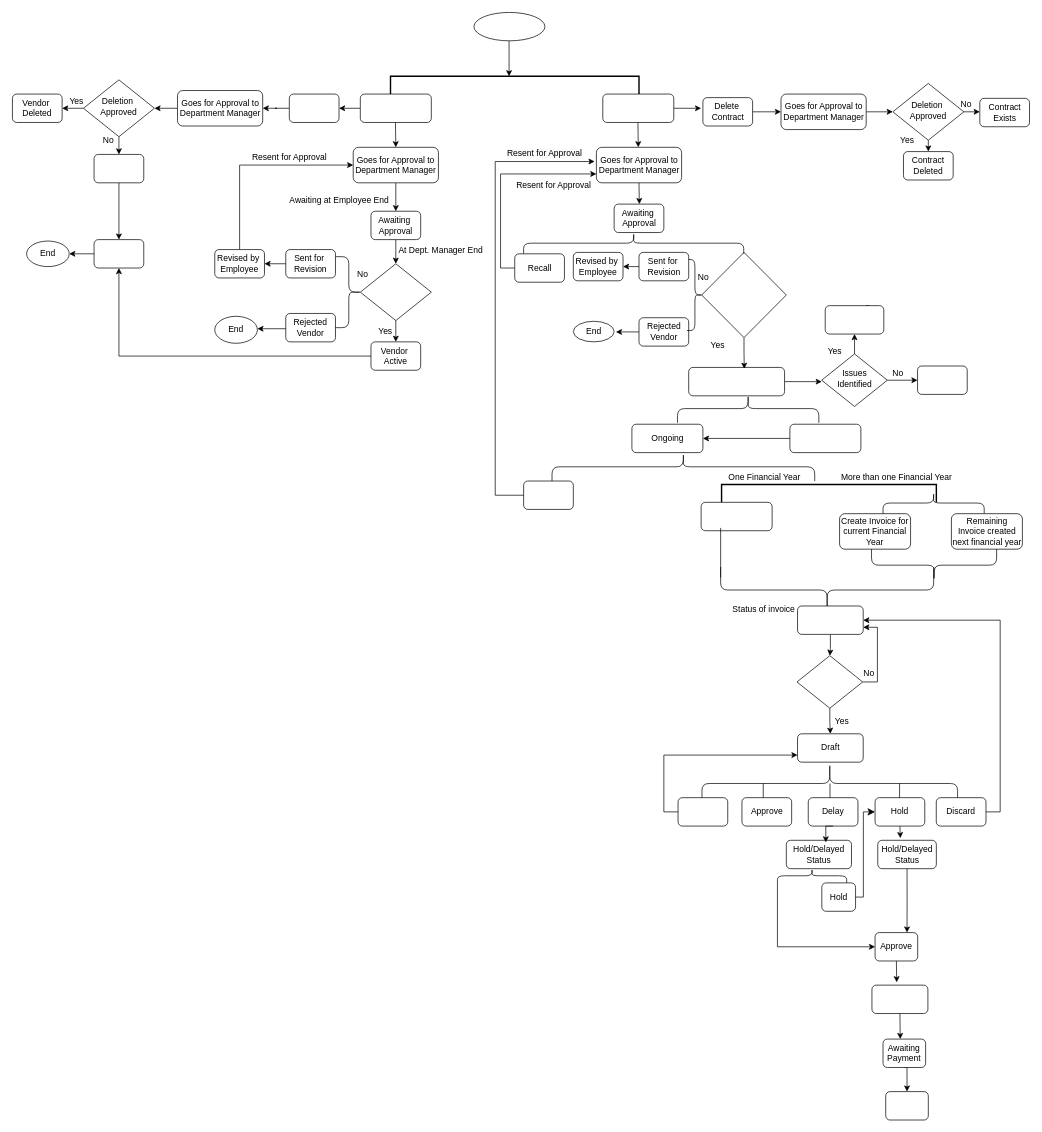
Some shapes in this 1042 by 1132 pixel diagram are drawn without their labels. The box of each missing label's shape, as (x1, y1, x2, y2) in pixels:
Amendment: (523, 480, 573, 509)
Complete: (885, 1091, 928, 1120)
Contract Active: (688, 367, 785, 396)
Contract Approved: (701, 252, 786, 338)
Create all Included Invoice: (700, 502, 772, 531)
Create Contract: (602, 93, 674, 122)
Create Vendor: (360, 93, 431, 122)
Delete Vendor: (289, 93, 339, 122)
Edit: (677, 797, 728, 826)
Move to Payment: (871, 984, 928, 1014)
Not Found: (917, 365, 967, 394)
Pending: (797, 605, 863, 634)
Report Issue: (825, 305, 884, 334)
Start: (473, 12, 545, 41)
Upcoming: (789, 424, 861, 453)
Update Invoice: (796, 655, 863, 708)
Vendor Approved: (360, 263, 431, 321)
Vendor Exist: (93, 154, 144, 183)
Vendor Rating: (93, 239, 144, 268)
